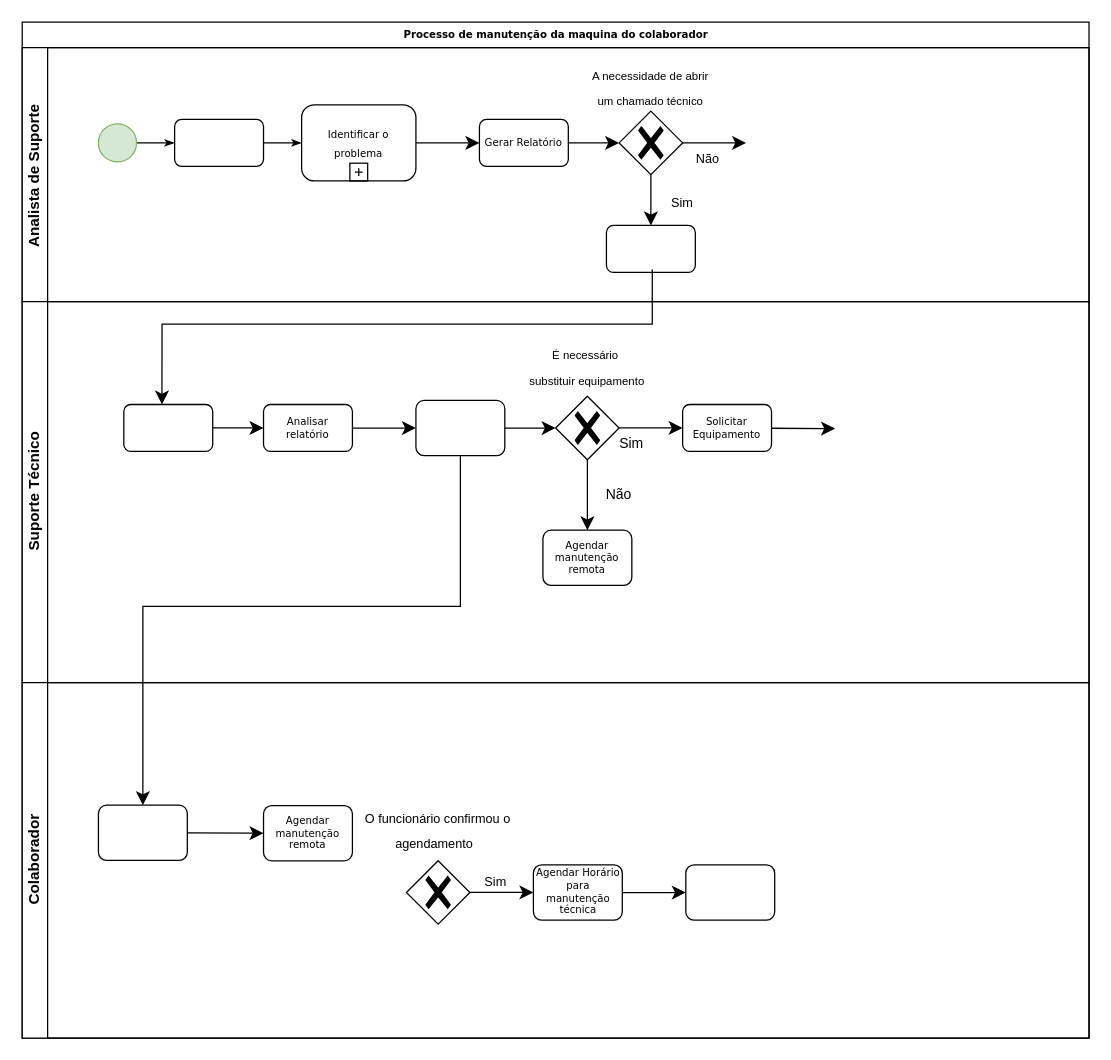
This 1111x1060 diagram has some shape labels left out. The centre of each missing label's shape, as x and y in pixels:
"Abrir Chamado" belongs at pixel 650 248.
"Notificar colaborador" belongs at pixel 460 427.
"Realizar Manutenção" belongs at pixel 730 892.
"Recebe Notificação" belongs at pixel 218 142.
"Receber chamado" belongs at pixel 168 427.
"Receber Notificação" belongs at pixel 142 832.
